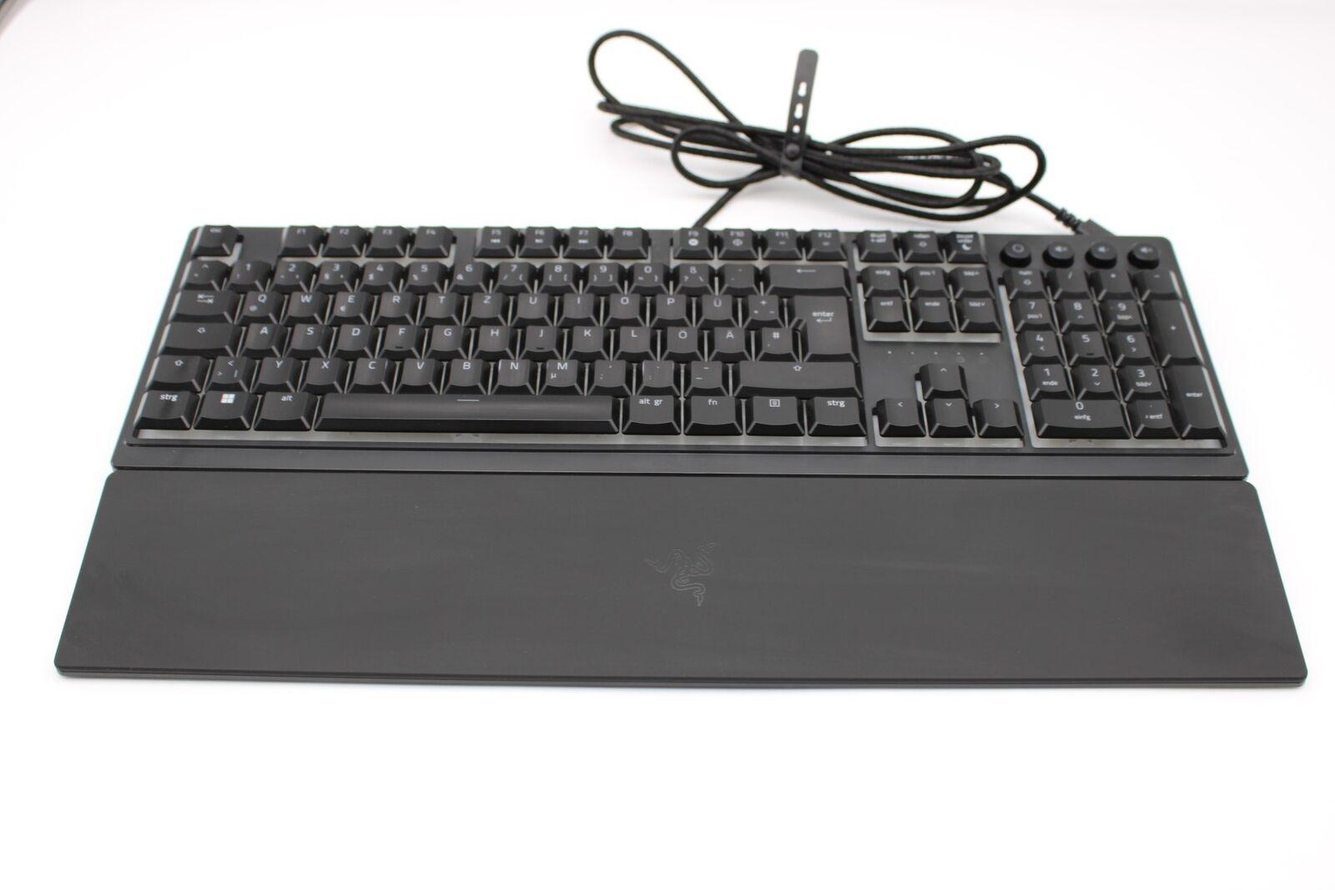0: (631, 257, 663, 283)
1: (227, 256, 264, 280)
2: (271, 255, 311, 284)
3: (315, 255, 352, 284)
4: (360, 256, 395, 283)
5: (406, 257, 439, 283)
6: (451, 256, 486, 282)
7: (495, 256, 530, 285)
8: (540, 256, 574, 285)
9: (585, 257, 618, 284)
a: (243, 319, 276, 347)
accent: (721, 259, 753, 286)
ae: (712, 323, 743, 350)
alt-left: (256, 388, 309, 420)
altgr-right: (626, 391, 674, 423)
b: (447, 354, 481, 385)
c: (350, 354, 386, 383)
caret: (182, 256, 223, 283)
comma: (592, 355, 624, 385)
d: (335, 320, 369, 349)
del: (765, 259, 844, 287)
e: (331, 287, 365, 314)
enter: (791, 290, 850, 353)
f: (381, 321, 415, 349)
g: (429, 322, 461, 349)
h: (476, 322, 507, 349)
hash: (758, 323, 791, 351)
i: (562, 289, 592, 315)
j: (523, 322, 555, 349)
k: (570, 322, 601, 349)
keyboard: (112, 219, 1252, 465)
l: (617, 323, 647, 350)
less: (208, 352, 247, 383)
m: (542, 355, 577, 385)
minus: (688, 357, 720, 386)
n: (495, 355, 529, 385)
o: (607, 289, 639, 315)
oe: (665, 323, 696, 351)
p: (653, 289, 684, 317)
plus: (745, 290, 777, 318)
point: (640, 357, 672, 385)
q: (239, 287, 275, 314)
r: (377, 288, 412, 314)
s: (290, 321, 322, 347)
shift-left: (149, 353, 200, 382)
shift-lock: (162, 319, 232, 348)
shift-right: (735, 358, 854, 386)
space: (315, 390, 615, 422)
ss: (675, 259, 708, 286)
strg-left: (135, 387, 191, 419)
strg-right: (810, 392, 860, 425)
t: (423, 289, 456, 314)
tab: (172, 287, 231, 314)
u: (515, 289, 547, 316)
ue: (698, 290, 731, 318)
v: (399, 354, 435, 384)
w: (285, 287, 323, 315)
x: (304, 354, 340, 383)
y: (256, 354, 293, 383)
z: (468, 288, 501, 314)
